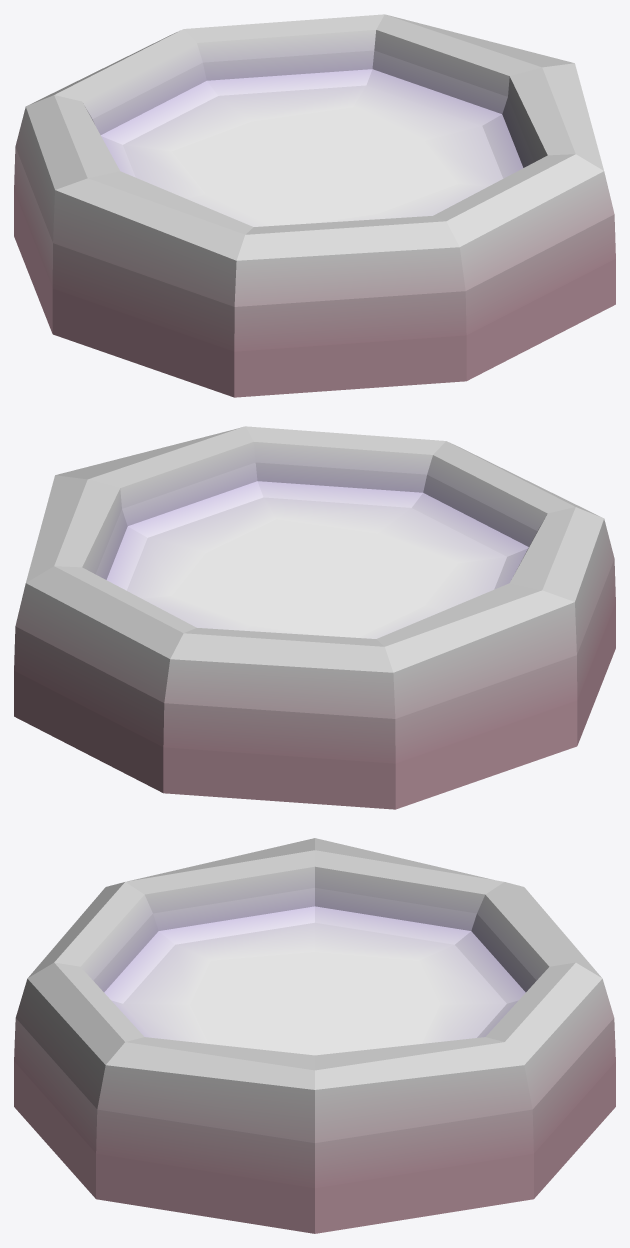
The model's file is CityGrassPatch_01.fbx.
The picture shows the model from 3 angles, top to bottom: view 1: azimuth 30°, elevation 25°; view 2: azimuth 150°, elevation 25°; view 3: azimuth 270°, elevation 25°; orthographic projection.
Parts seen in each view (by area): view 1: Cube.028; view 2: Cube.028; view 3: Cube.028.
Boxes of the visible parts, x1,y1,x2,y2 form: Cube.028: [14, 14, 615, 397]; Cube.028: [14, 426, 615, 809]; Cube.028: [14, 838, 615, 1233].
Bounding box in the file's own units: 183 × 49.23 × 183.
